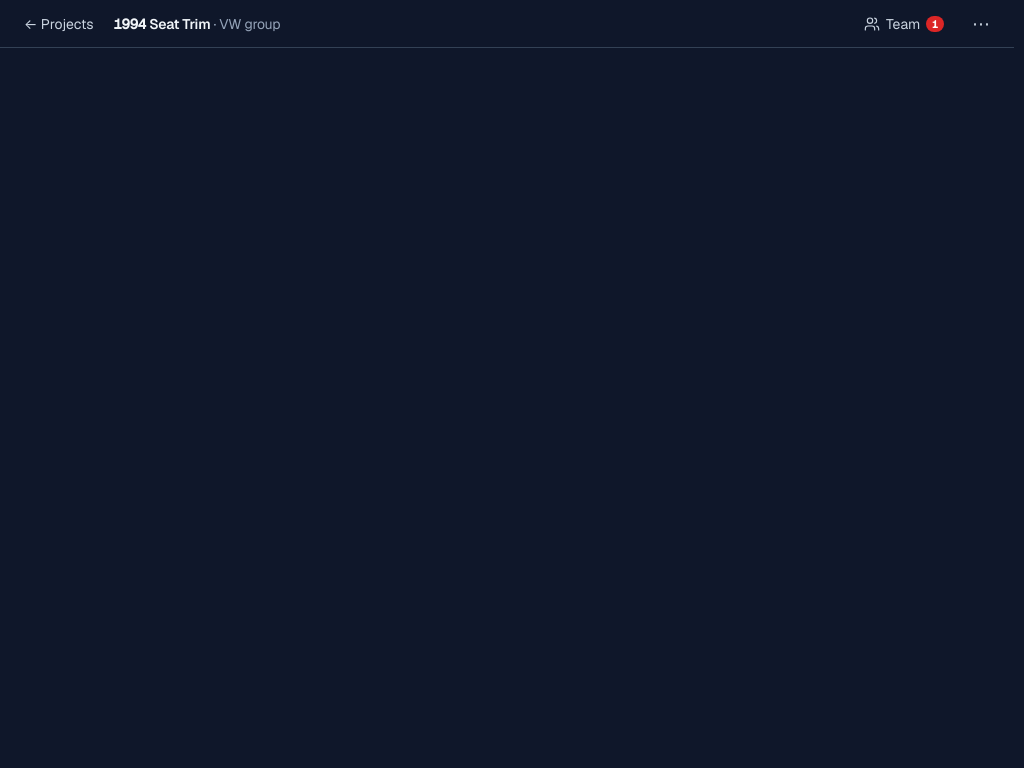
ProjectTeamDialog › the header Team button carries a red count of open slots and opens the dialog; the ⋯ menu links it
expect the text with test id "project-team-gaps" reads "1": met, box [932,16,939,30]
Click the button with test id "project-team-button": click(904, 24) [856,10,952,38]
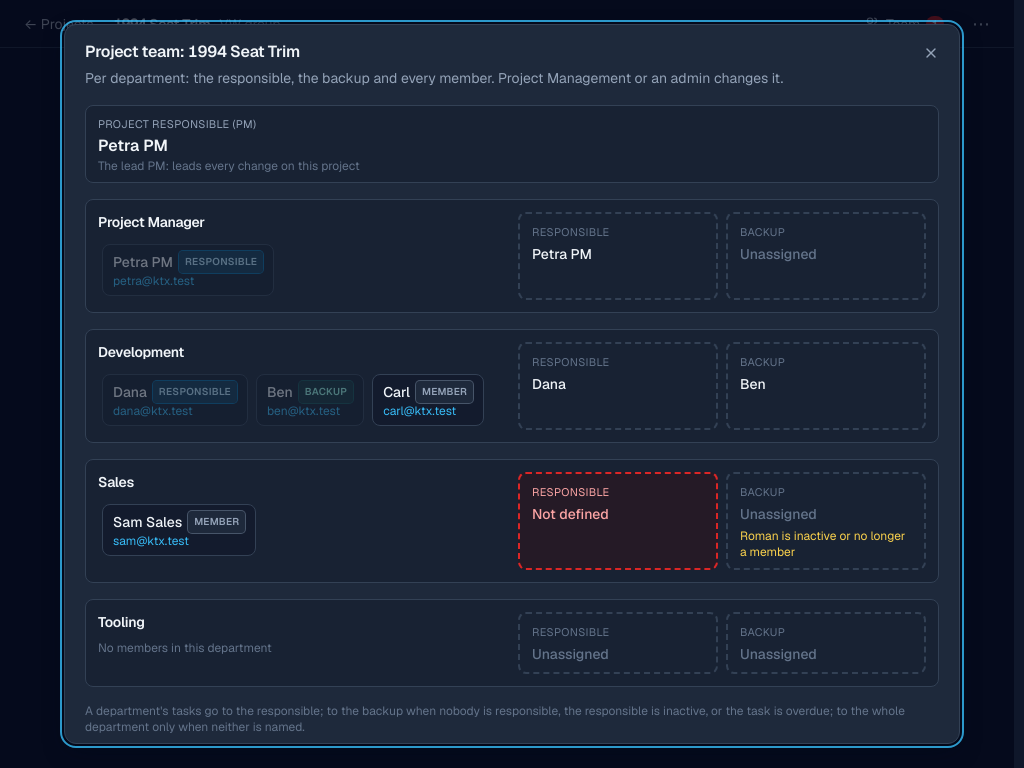
expect the dialog with test id "project-team-dialog" is shown: met
Click the button named "Close": click(931, 53) [915,37,947,69]
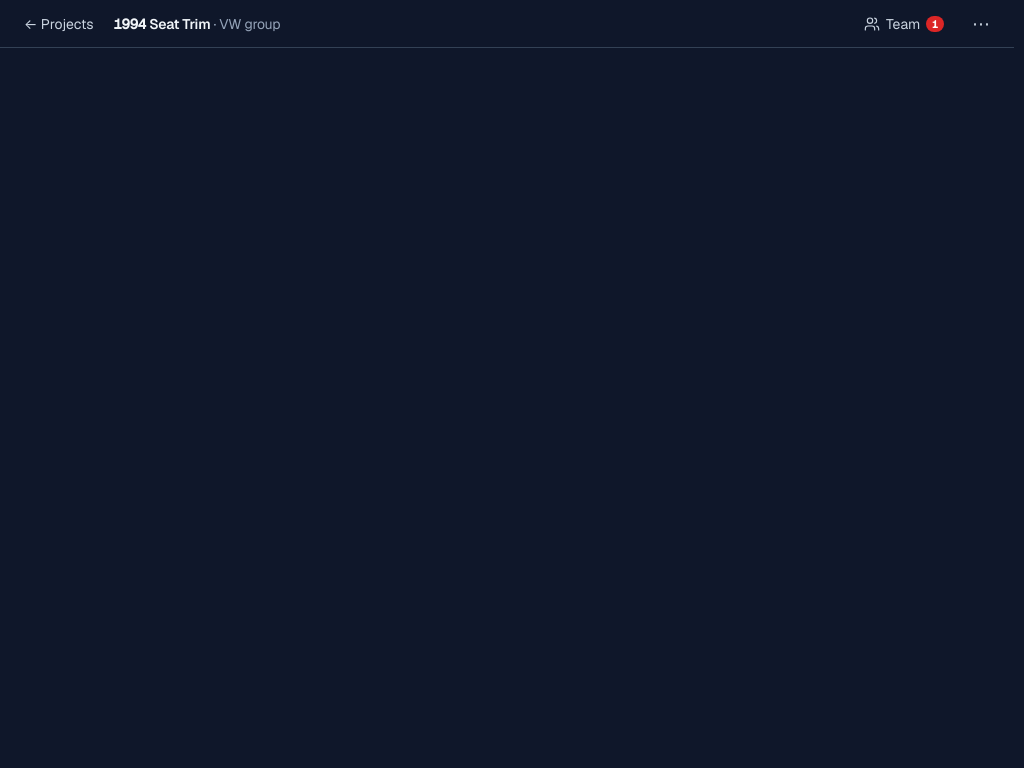
expect the dialog with test id "project-team-dialog" is gone: met
Click the button named "Project actions": click(981, 24) [964,10,998,36]
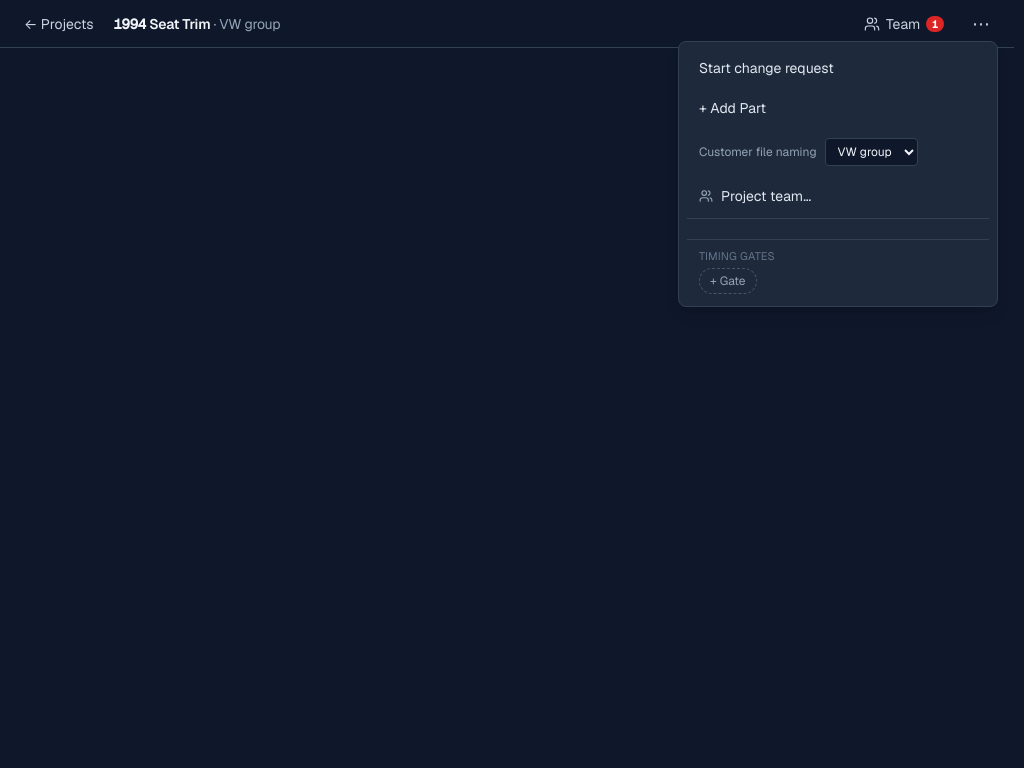
Click the menu item with test id "menu-project-team": click(762, 196) [687,178,989,214]
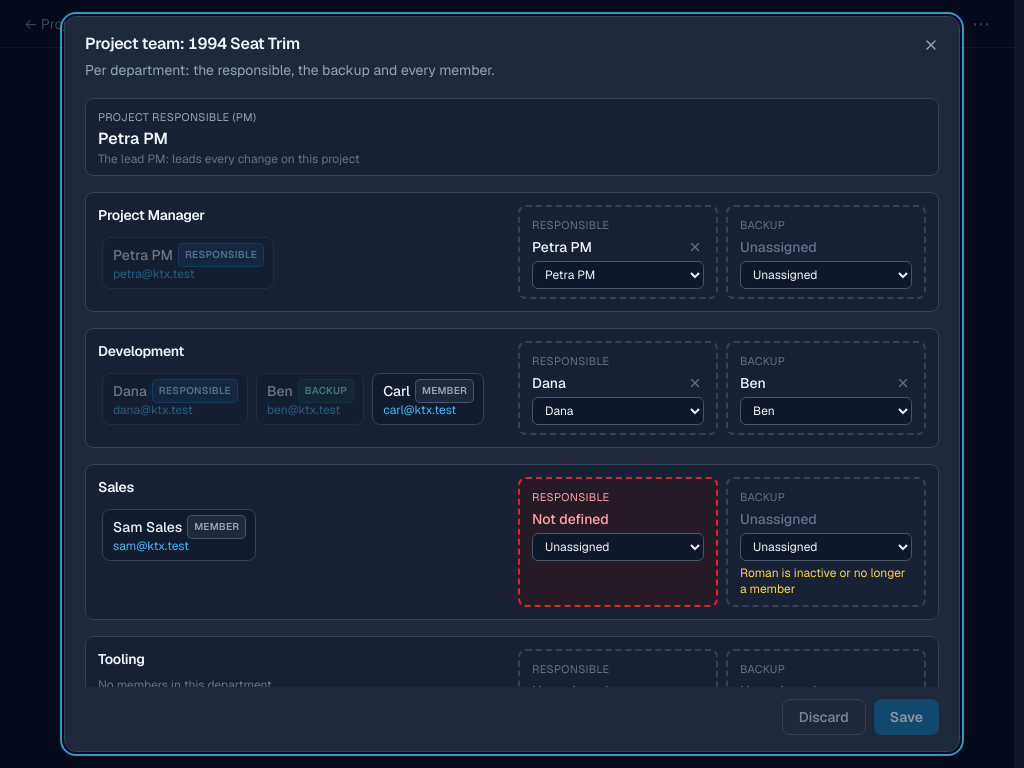
expect the dialog with test id "project-team-dialog" is shown: met
